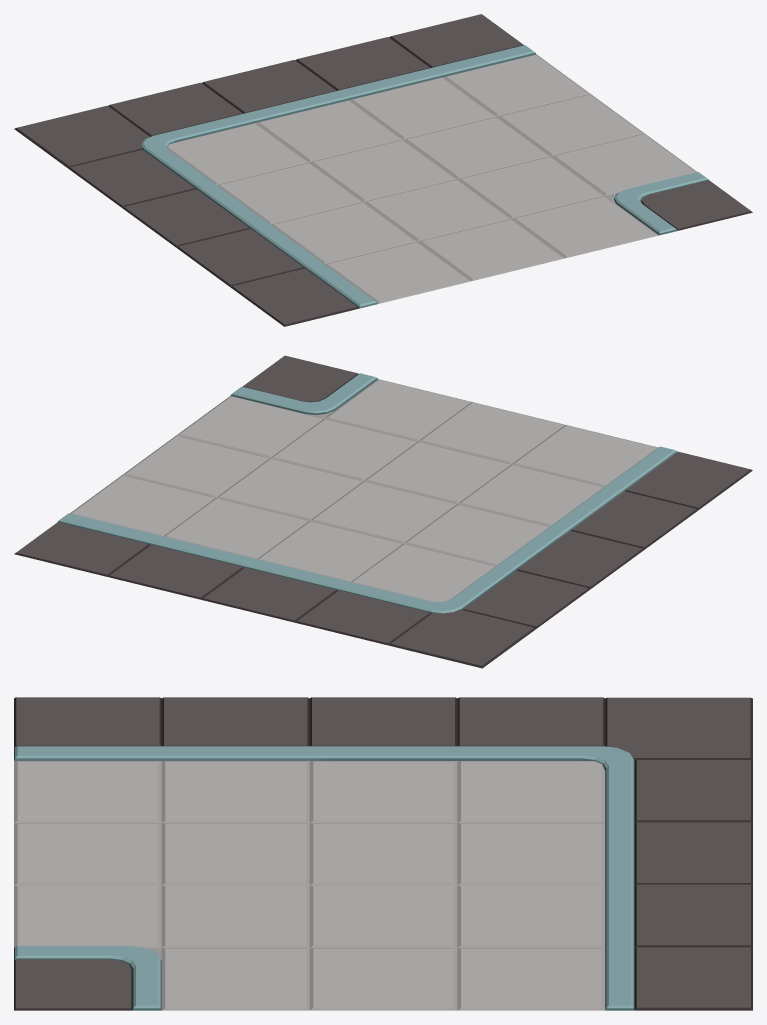
The model's file is Corner_0.glb.
The picture shows the model from 3 angles, top to bottom: view 1: azimuth 30°, elevation 25°; view 2: azimuth 150°, elevation 25°; view 3: azimuth 270°, elevation 25°; orthographic projection. The views are drawn at different scales.
Parts seen in each view (by area): view 1: Corner_0; view 2: Corner_0; view 3: Corner_0.
Part boxes in pixels (bbox=[...]): Corner_0: bbox=[14, 14, 752, 326]; Corner_0: bbox=[14, 355, 752, 668]; Corner_0: bbox=[14, 697, 752, 1010].
Bounding box in the file's own units: 16 × 0.0884 × 16.
Materials: 1 (1 with a texture image).
